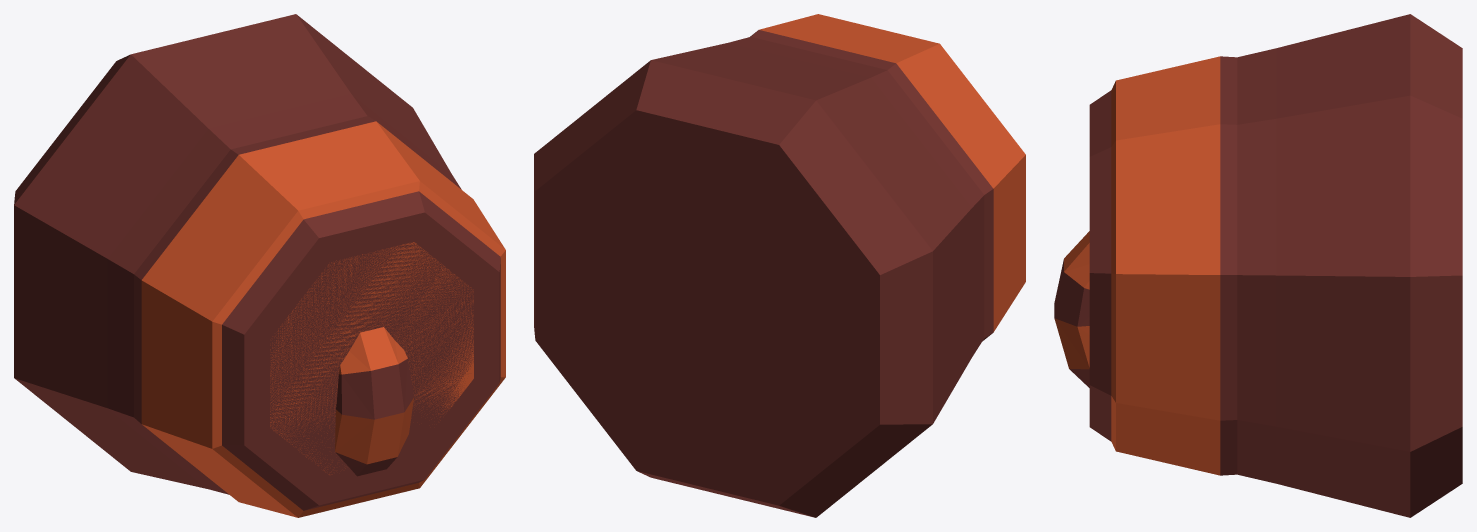
The model's file is Panda.fbx.
The picture shows the model from 3 angles, left to right: view 1: azimuth 30°, elevation 25°; view 2: azimuth 150°, elevation 25°; view 3: azimuth 270°, elevation 25°; orthographic projection.
Visible parts, largest first — view 1: Forearm, UpperArm, Torso; view 2: Forearm, UpperArm; view 3: Forearm, UpperArm, Torso.
Part boxes in pixels (<box>): Forearm: <box>14,14,500,510</box>; UpperArm: <box>134,116,505,517</box>; Torso: <box>335,327,413,476</box>; Forearm: <box>534,37,984,517</box>; UpperArm: <box>567,14,1025,468</box>; Forearm: <box>1089,14,1462,517</box>; UpperArm: <box>1111,56,1237,475</box>; Torso: <box>1054,231,1089,387</box>.
Bounding box in the file's own units: 1.25 × 1.25 × 1.1.
1 material, 1 textured.
